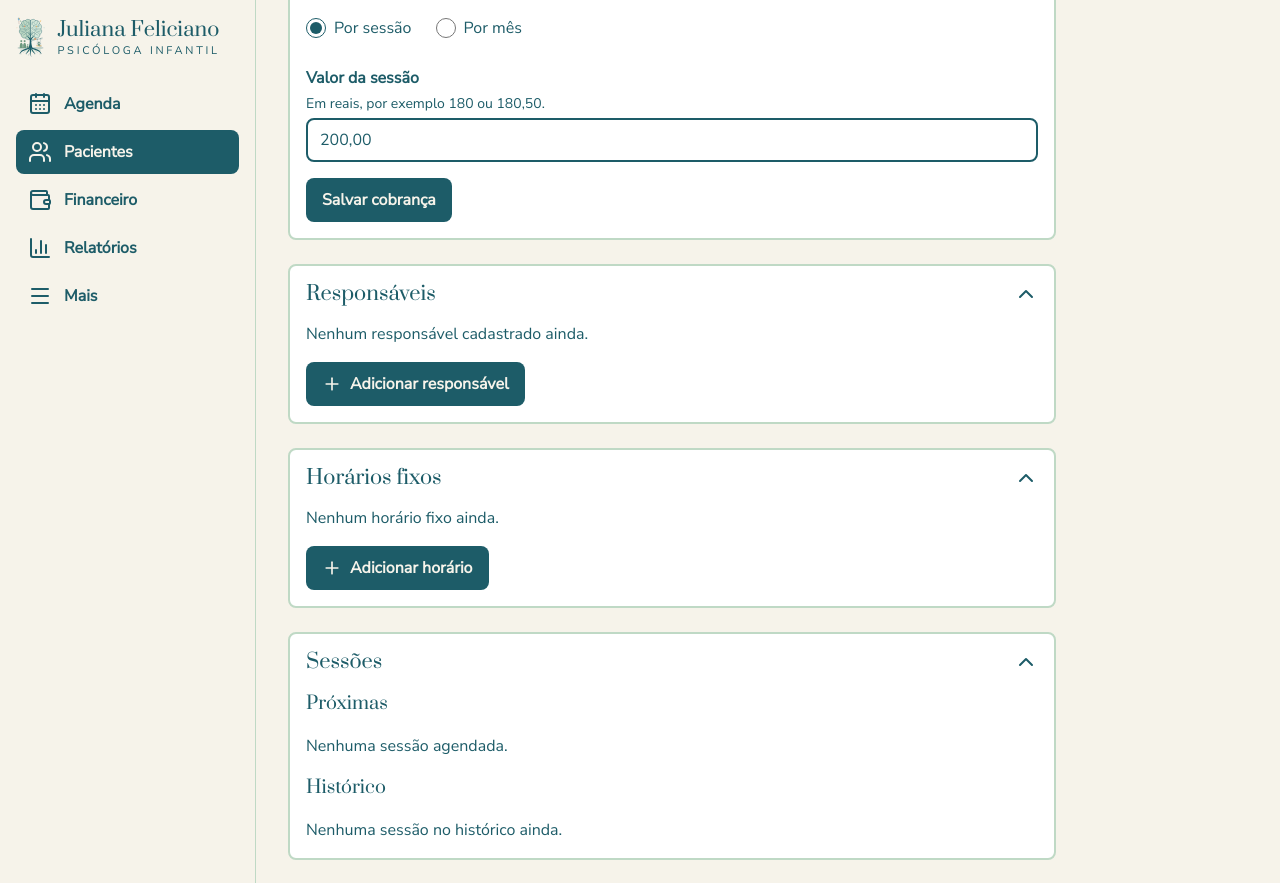
Test: SecaoHorarios › adicionar › dia e hora são obrigatórios; a duração precisa ser um número maior que zero
The width and height of the screenshot is (1280, 883).
(page scrolled)
Click the button "Adicionar horário": (397, 568) [306,546,488,590]
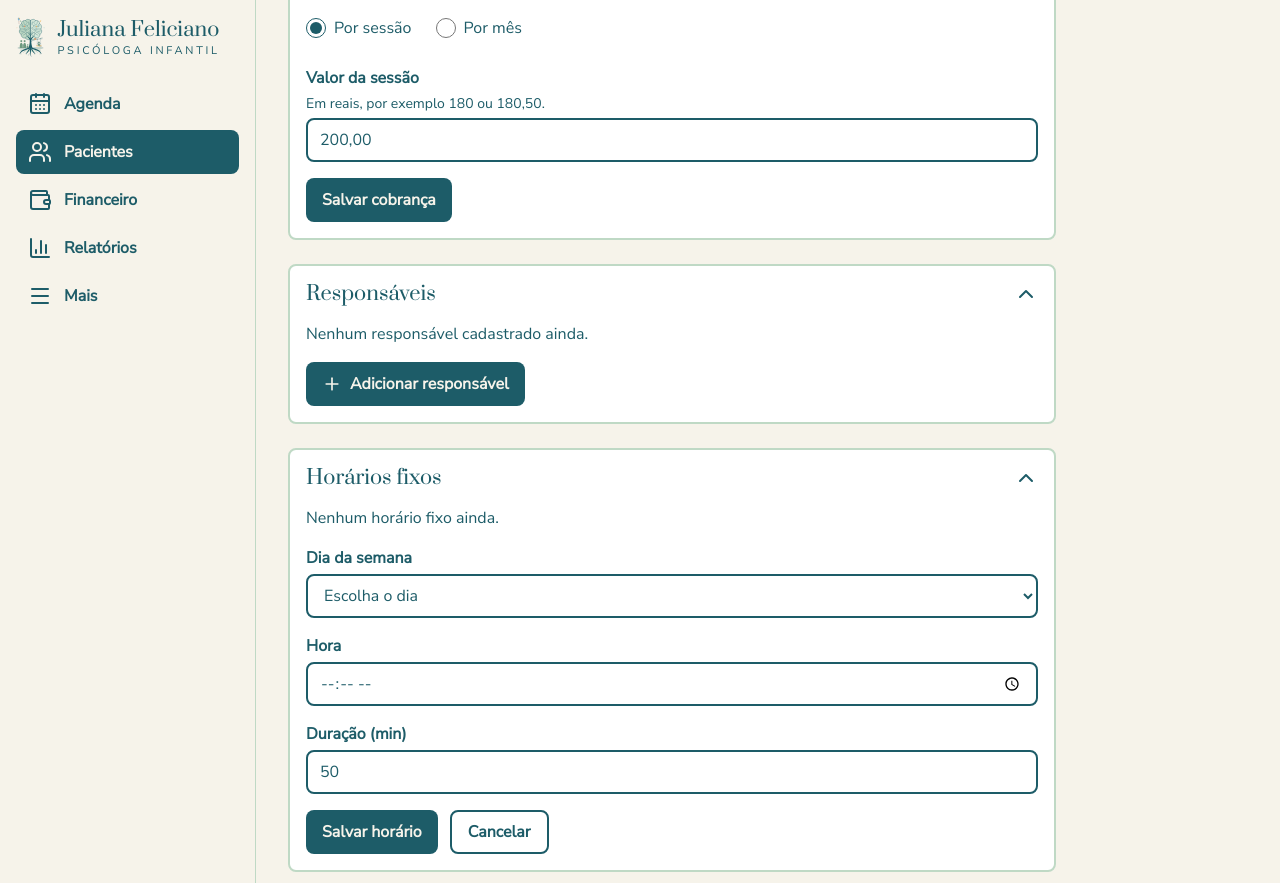
Clear the number field labelled "Duração (min)": (672, 772) [306,750,1038,794]
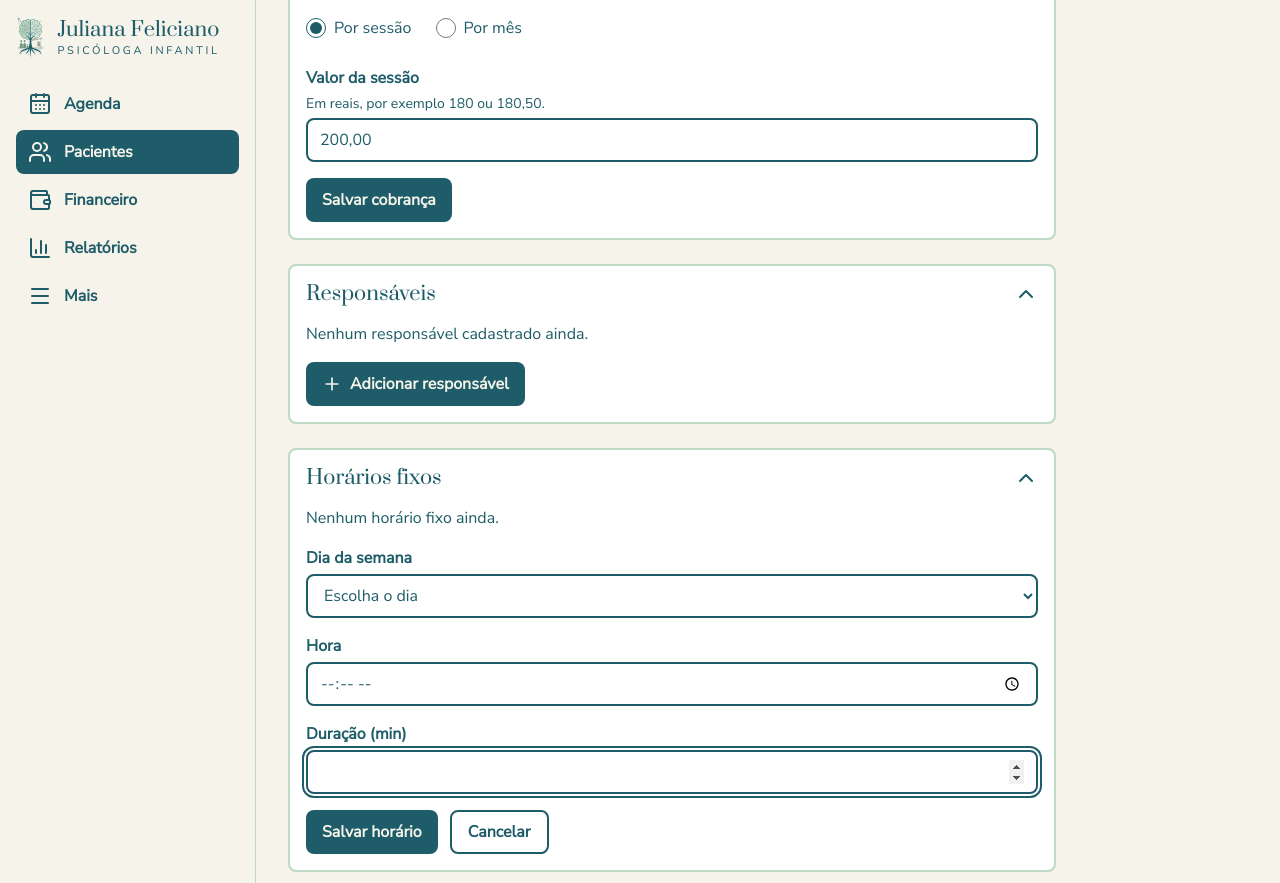
Click the button "Salvar horário": (372, 832) [306,810,438,854]
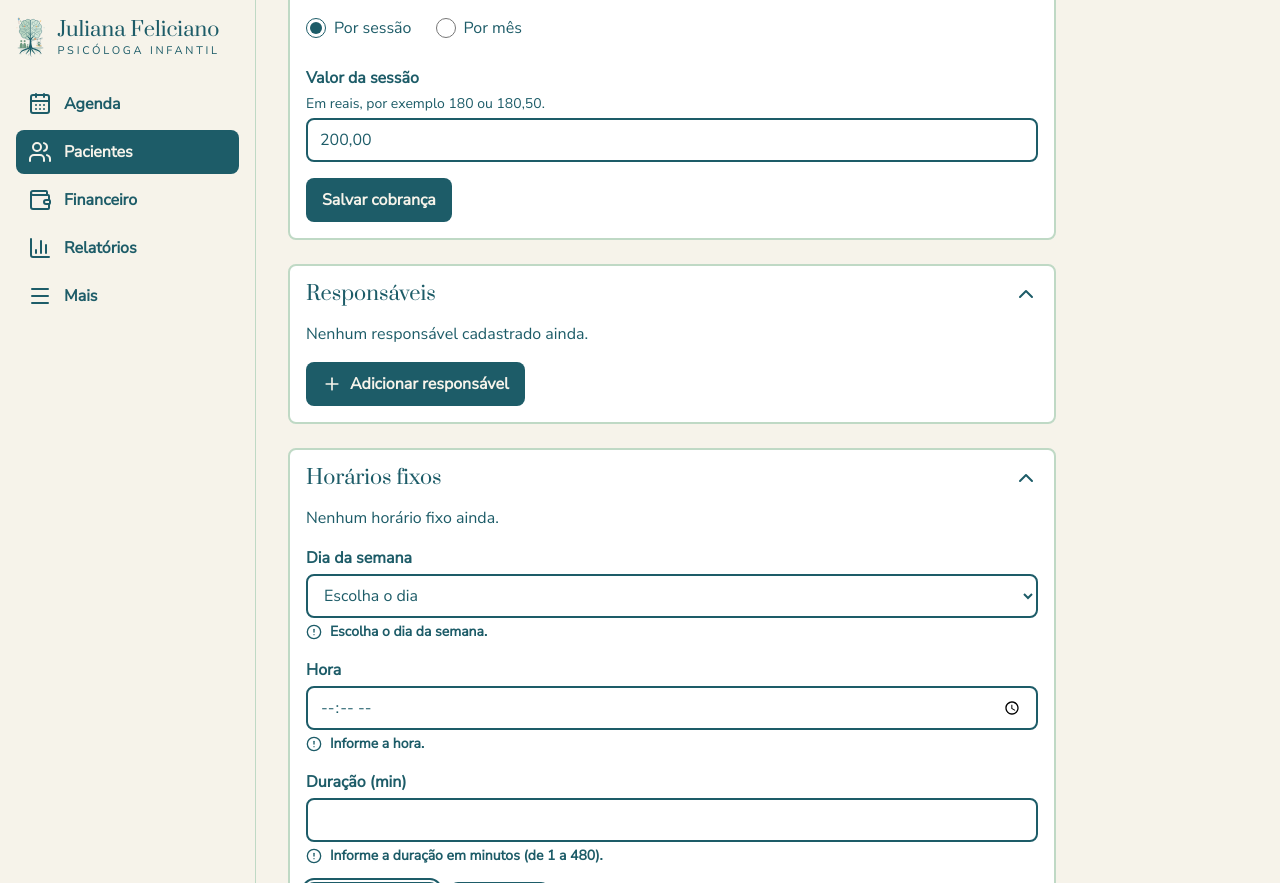
Expected: the text "Escolha o dia da semana." is shown, [306,622,487,641]
Expected: the text "Informe a hora." is shown, [306,734,424,753]
Expected: the text "Informe a duração em minutos (de 1 a 480)." is shown, [306,846,603,865]
